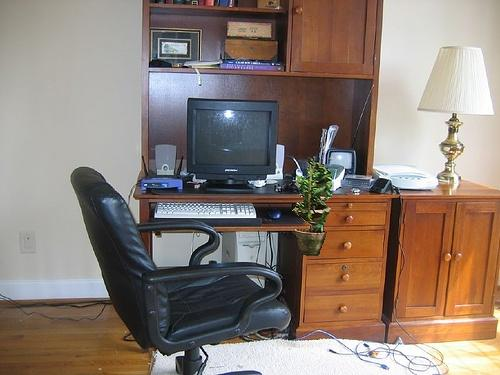tampered: (293, 158, 332, 256)
